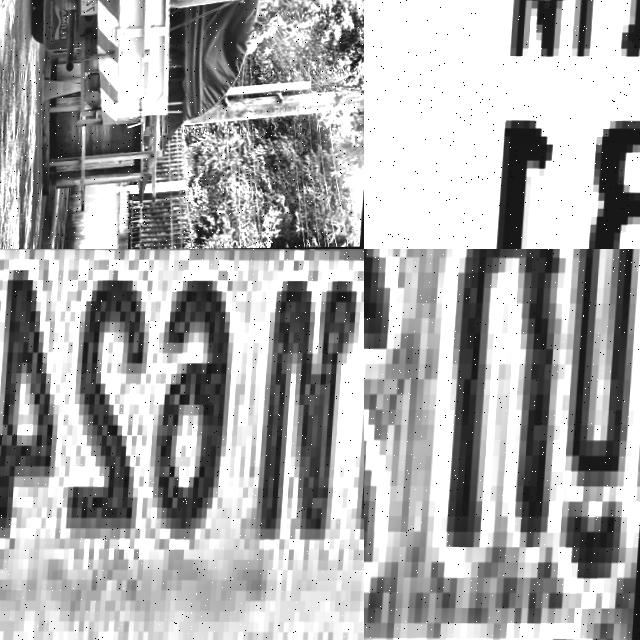license-plate: (0, 249, 364, 640), (364, 249, 640, 640), (364, 0, 640, 249), (153, 52, 190, 81)
